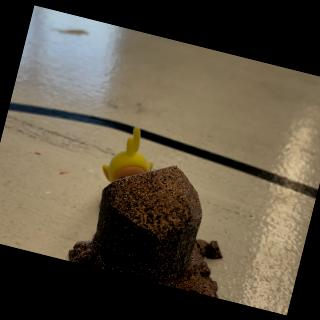teletubby: (102, 127, 152, 181)
